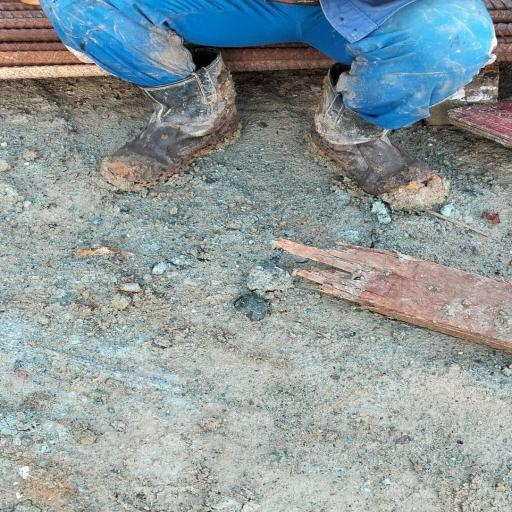safety_shoe: (77, 69, 254, 177), (287, 70, 436, 196)
